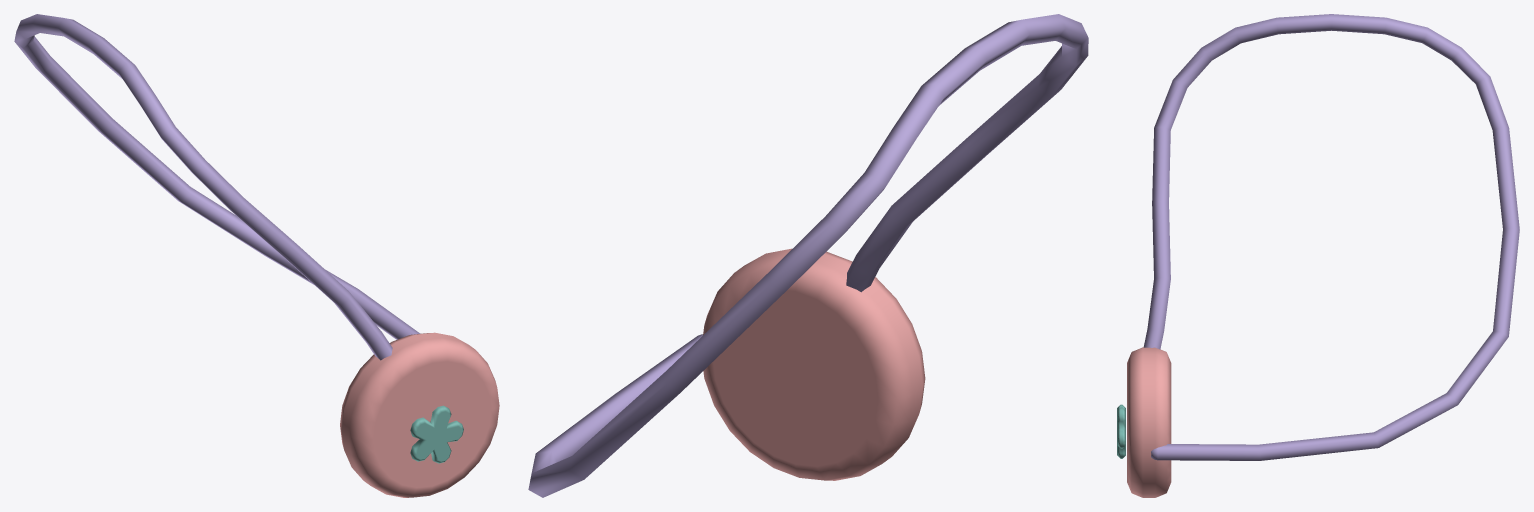
The model's file is dreamy_pochette.glb.
The picture shows the model from 3 angles, left to right: view 1: azimuth 30°, elevation 25°; view 2: azimuth 150°, elevation 25°; view 3: azimuth 270°, elevation 25°; orthographic projection. The views are drawn at different scales.
Parts seen in each view (by area): view 1: dreamy_pochette_Body; view 2: dreamy_pochette_Body; view 3: dreamy_pochette_Body.
Boxes of the visible parts, x1=… form: dreamy_pochette_Body: x1=14, y1=14, x2=499, y2=497; dreamy_pochette_Body: x1=528, y1=14, x2=1088, y2=497; dreamy_pochette_Body: x1=1117, y1=14, x2=1519, y2=497.
Bounding box in the file's own units: 0.3533 × 0.4741 × 0.4526.
